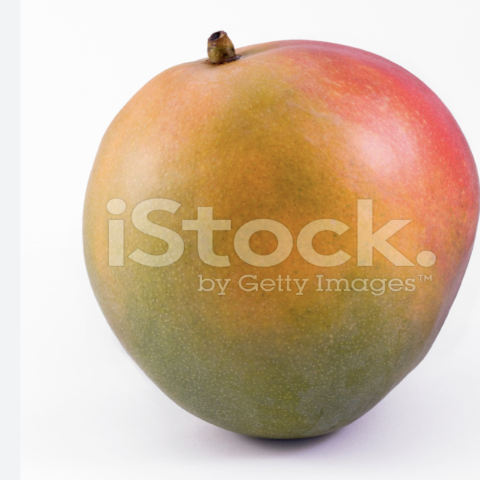mango: (55, 12, 478, 473)
